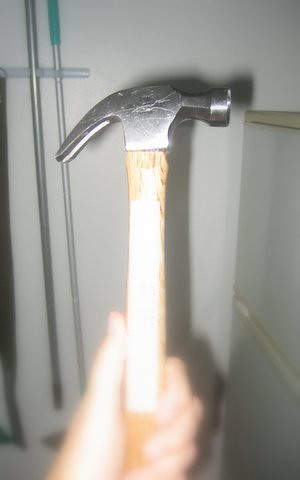hammer: (55, 83, 236, 380)
